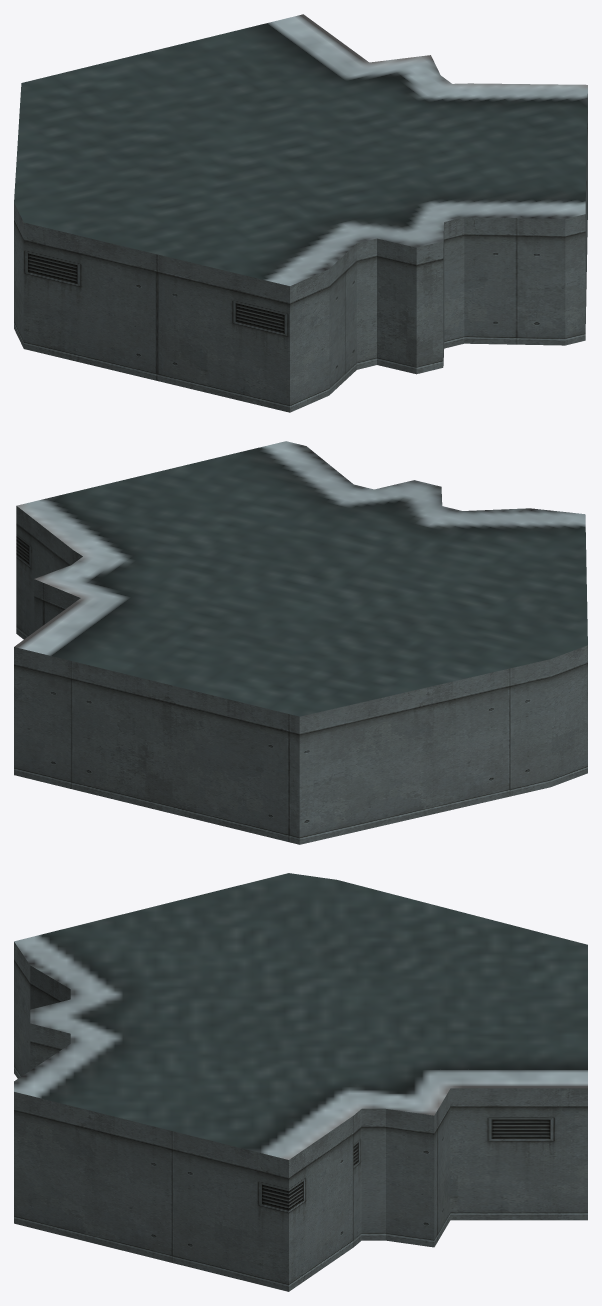
File: medium_roof53.glb
3 views of the same model, one above another, from view 1: azimuth 30°, elevation 25°; view 2: azimuth 150°, elevation 25°; view 3: azimuth 270°, elevation 25° (orthographic). The views are drawn at different scales.
Parts seen in each view (by area): view 1: buildings/saxarba/medium/medium_roof53; view 2: buildings/saxarba/medium/medium_roof53; view 3: buildings/saxarba/medium/medium_roof53.
Part boxes in pixels (box(x1,y1,x2,y2)): buildings/saxarba/medium/medium_roof53: box(14, 14, 587, 412); buildings/saxarba/medium/medium_roof53: box(14, 441, 587, 844); buildings/saxarba/medium/medium_roof53: box(14, 873, 587, 1291).
Bounding box in the file's own units: 84 × 18 × 71.
